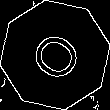O_SE: (22, 23, 88, 87)
